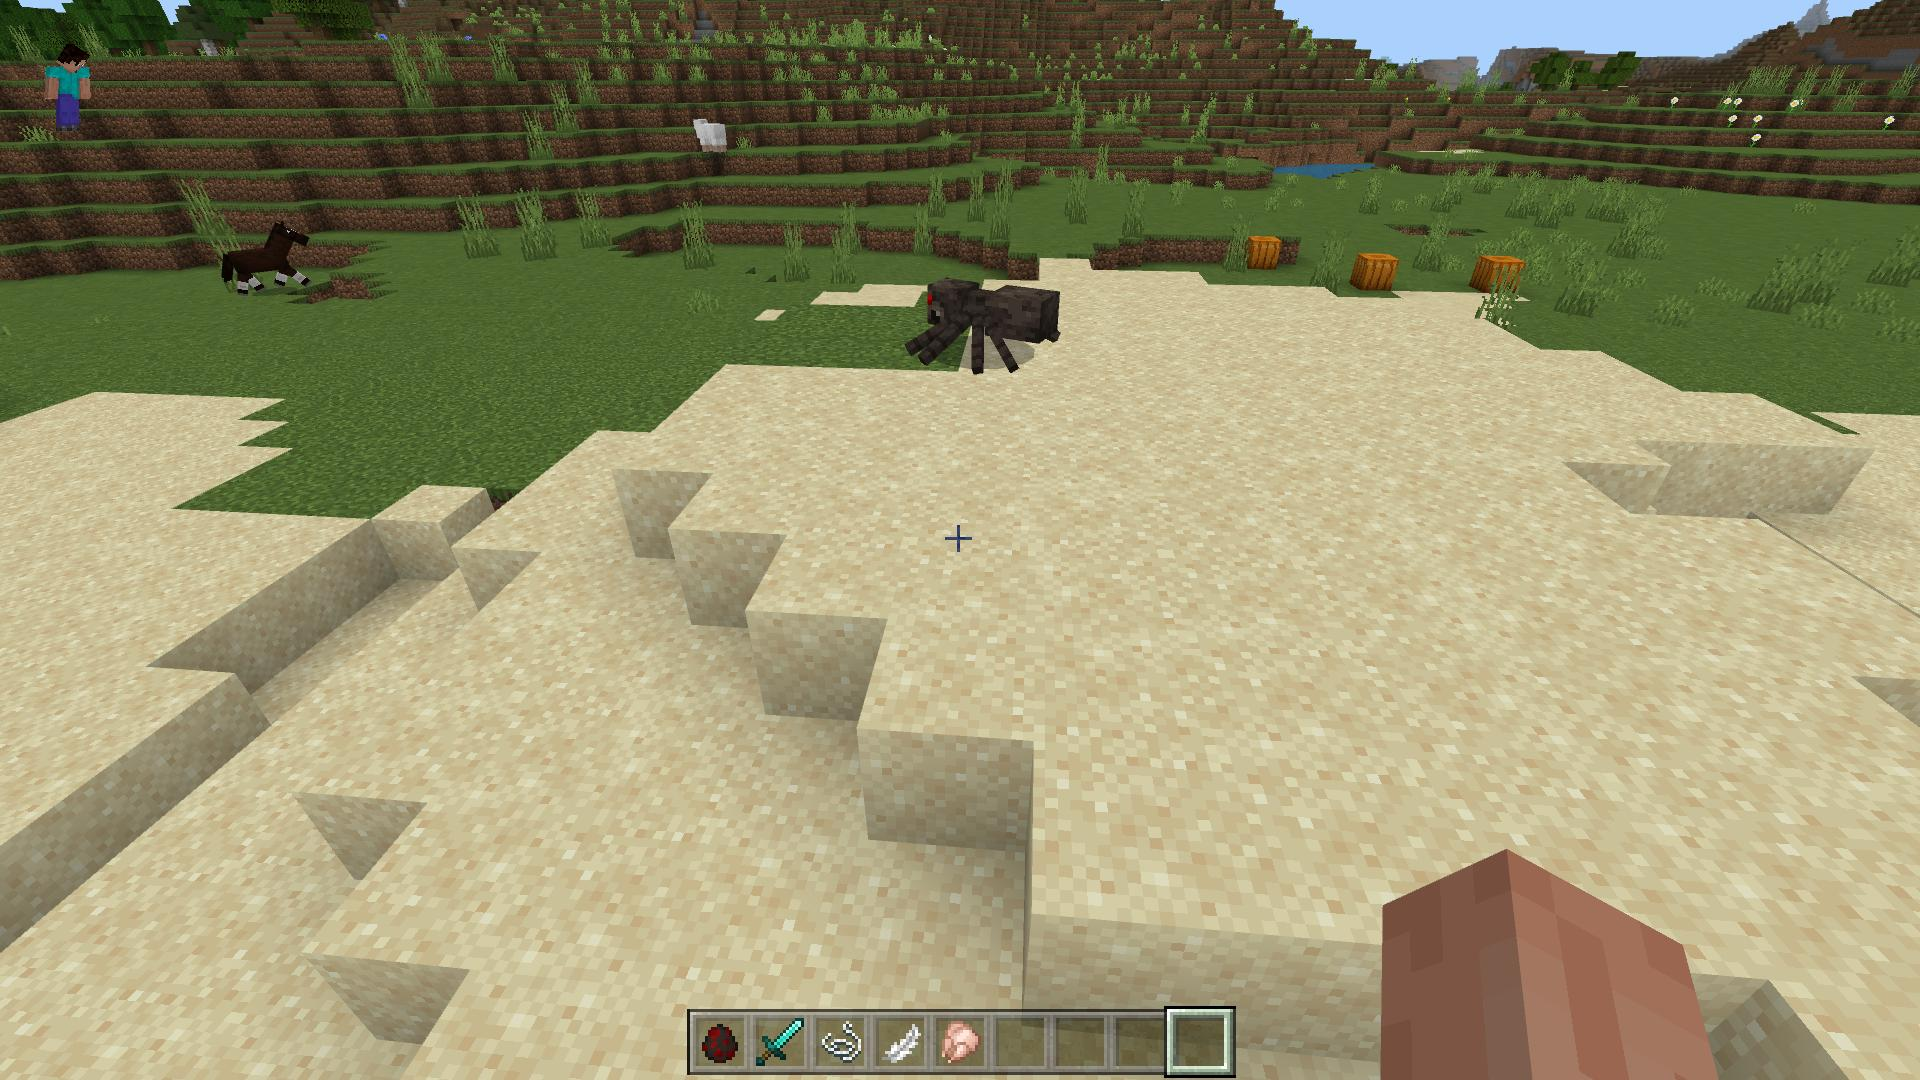spider: (909, 276, 1063, 377)
